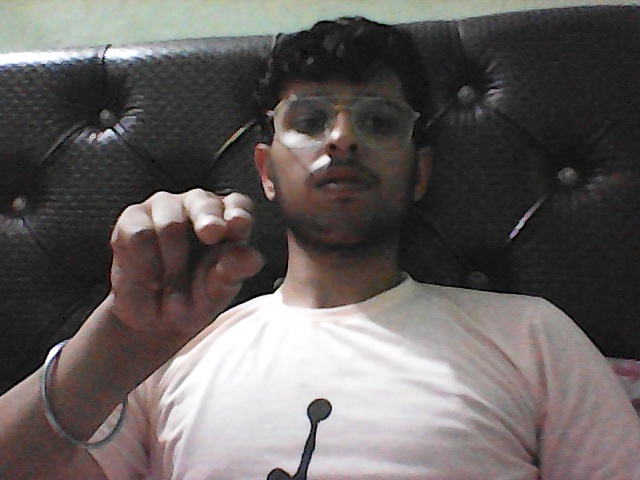no: (60, 159, 282, 381)
